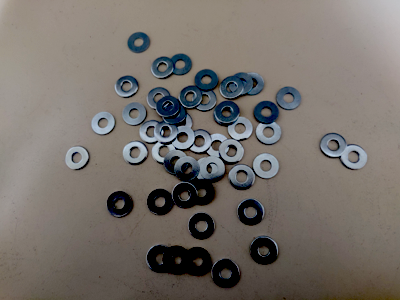circle: (251, 237, 279, 265), (184, 247, 211, 276), (212, 260, 239, 288), (238, 199, 265, 225), (147, 246, 173, 273), (340, 145, 368, 170), (189, 213, 215, 239), (320, 133, 347, 158), (164, 246, 188, 274), (253, 154, 279, 179), (229, 165, 255, 190), (147, 189, 172, 215), (172, 182, 197, 208), (107, 192, 132, 217), (189, 180, 214, 205), (123, 141, 148, 166), (200, 157, 225, 182), (175, 157, 200, 182), (164, 150, 189, 175), (66, 146, 90, 171), (228, 117, 253, 141), (168, 111, 193, 135), (256, 122, 282, 145), (92, 112, 116, 136), (205, 134, 229, 158), (152, 141, 176, 165), (154, 121, 178, 145), (140, 120, 164, 144), (277, 87, 302, 110), (254, 101, 279, 124), (219, 140, 244, 163), (195, 157, 220, 180), (229, 73, 253, 96), (189, 130, 212, 154), (179, 86, 203, 109), (171, 126, 195, 149), (147, 87, 171, 110), (215, 101, 240, 123), (214, 103, 239, 125), (123, 103, 146, 126), (242, 73, 265, 96), (220, 77, 244, 99), (193, 89, 217, 111), (156, 96, 181, 117), (115, 76, 138, 98), (151, 57, 174, 79), (170, 54, 193, 76), (195, 69, 218, 91), (163, 104, 187, 124), (128, 32, 150, 53)
